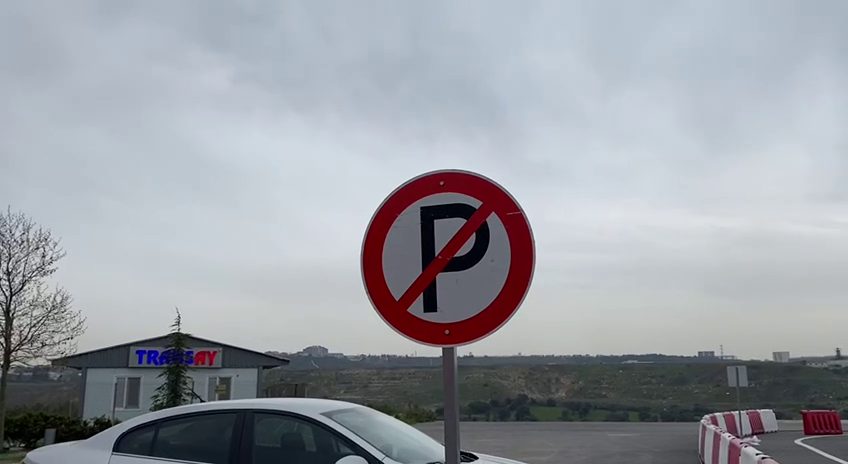noparking: (356, 165, 542, 349)
